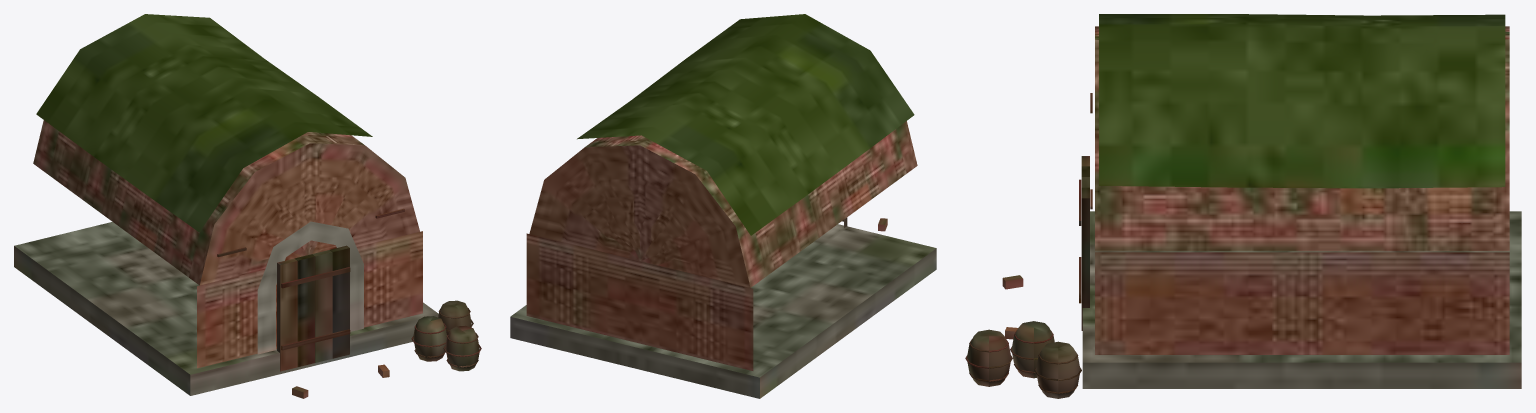
File: starfort_powder_store_live.glb
3 views of the same model, side by side, from view 1: azimuth 30°, elevation 25°; view 2: azimuth 150°, elevation 25°; view 3: azimuth 270°, elevation 25° (orthographic). The views are drawn at different scales.
Parts seen in each view (by area): view 1: intact, door, barrel_03, barrel_01, barrel_02; view 2: intact; view 3: intact, barrel_02, barrel_03, barrel_01, door.
Part boxes in pixels (box(x1,y1,x2,y2)): intact: box(14, 14, 438, 395); door: box(277, 245, 350, 371); barrel_03: box(443, 325, 481, 371); barrel_01: box(411, 316, 447, 361); barrel_02: box(438, 300, 473, 334); intact: box(510, 14, 936, 398); intact: box(1082, 14, 1521, 388); barrel_02: box(1034, 341, 1081, 398); barrel_03: box(965, 329, 1012, 386); barrel_01: box(1010, 321, 1054, 378); door: box(1079, 156, 1089, 330).
Size of what is drawn, in the model's own units: 4.79 by 3.88 by 6.84.
Materials: 1 (1 with a texture image).
